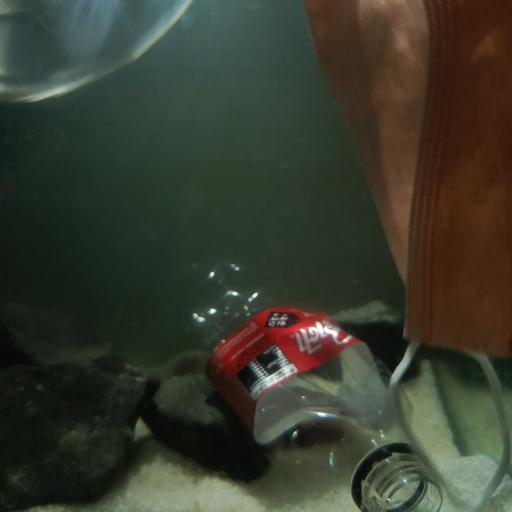mask: (308, 0, 512, 488)
plastic_bottle: (176, 256, 442, 511)
plastic_cup: (0, 0, 205, 104)
